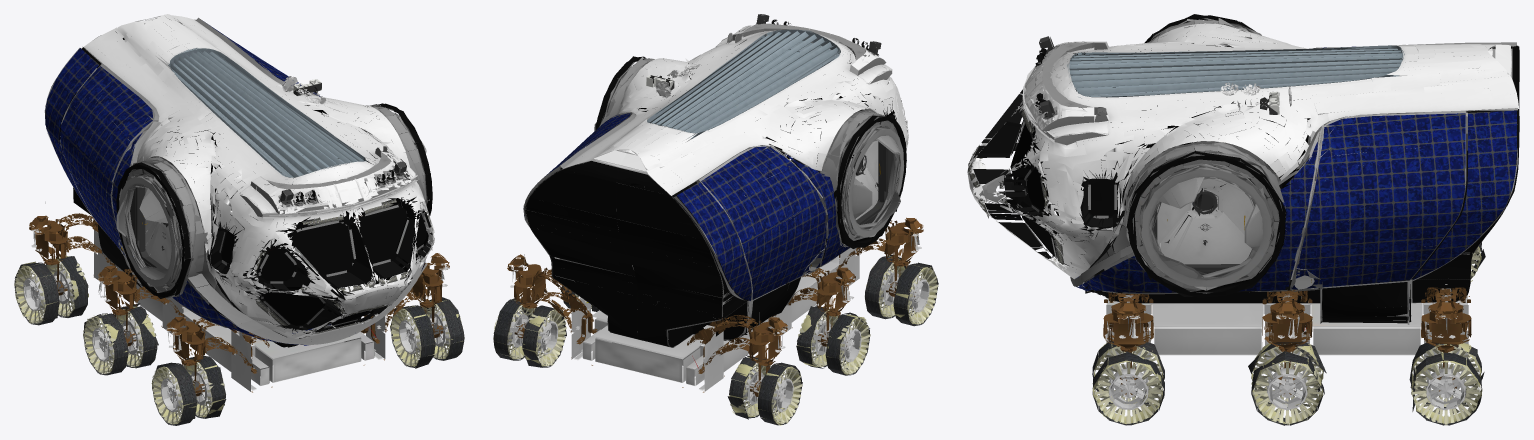
File: nasa_exploration_vehicle.glb
The picture shows the model from 3 angles, left to right: view 1: azimuth 30°, elevation 25°; view 2: azimuth 150°, elevation 25°; view 3: azimuth 270°, elevation 25°; orthographic projection. The views are drawn at different scales.
Parts seen in each view (by area): view 1: MMSEV; view 2: MMSEV; view 3: MMSEV.
Part boxes in pixels (x1=…): MMSEV: x1=14, y1=14, x2=464, y2=425; MMSEV: x1=493, y1=14, x2=938, y2=425; MMSEV: x1=967, y1=14, x2=1519, y2=425.
Size of the model in its own units: 4.01 by 3.49 by 5.87.
Materials: 1 (1 with a texture image).
